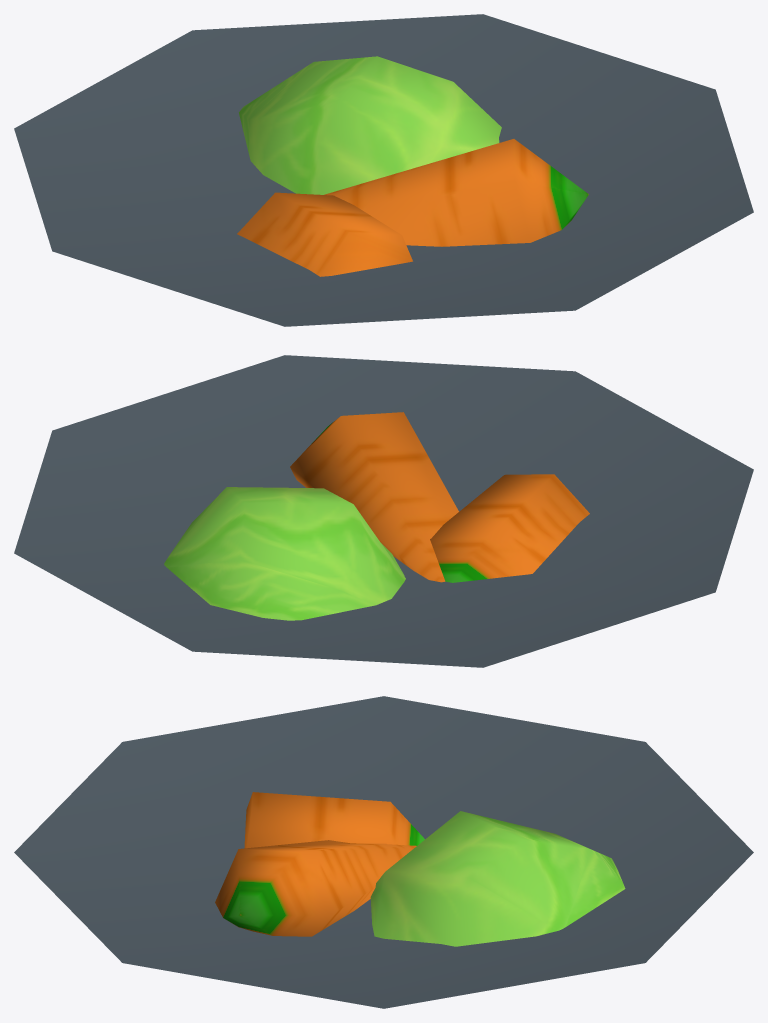
File: Dish01_a02.FBX
The picture shows the model from 3 angles, top to bottom: view 1: azimuth 30°, elevation 25°; view 2: azimuth 150°, elevation 25°; view 3: azimuth 270°, elevation 25°; orthographic projection. The views are drawn at different scales.
Parts seen in each view (by area): view 1: Dish01_a02; view 2: Dish01_a02; view 3: Dish01_a02.
Part boxes in pixels (box(x1,y1,x2,y2)): Dish01_a02: box(14, 14, 753, 326); Dish01_a02: box(14, 355, 753, 667); Dish01_a02: box(14, 696, 753, 1008).
Size of the model in its own units: 80.64 by 12.07 by 80.64.
